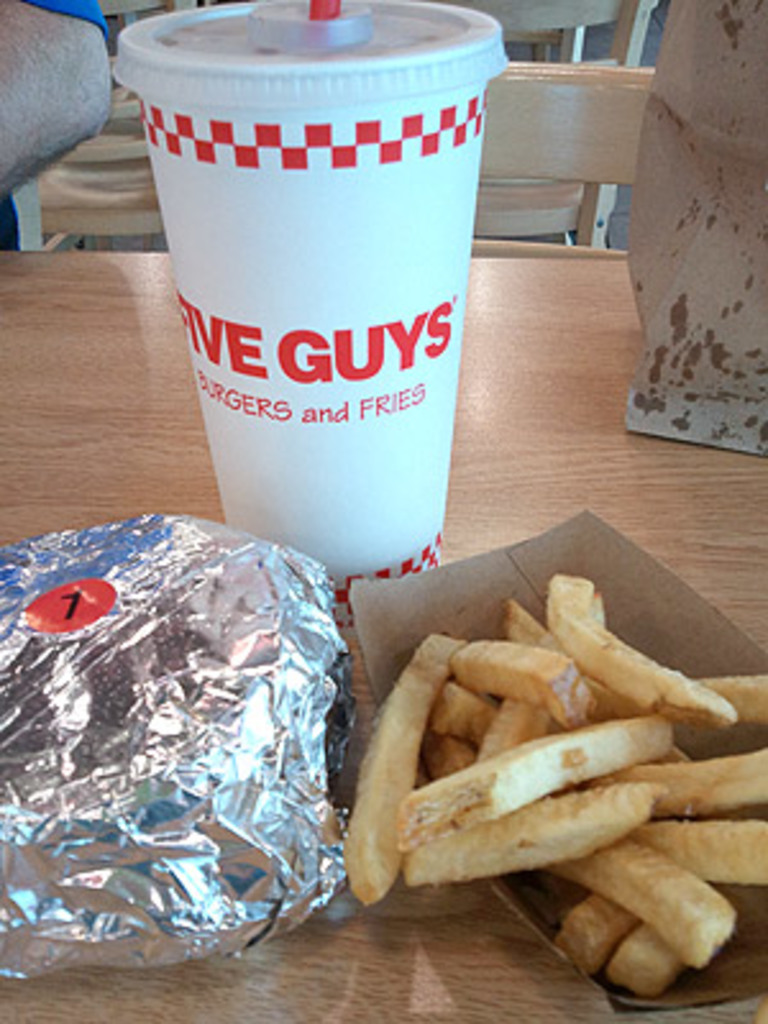French fries: (317, 558, 768, 929)
